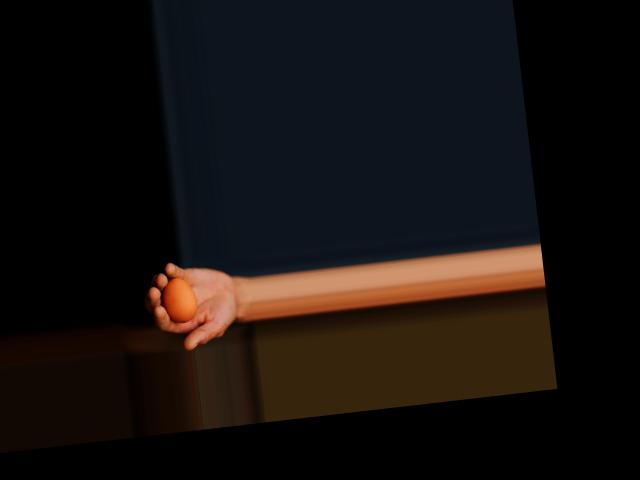egg: (161, 274, 198, 323)
